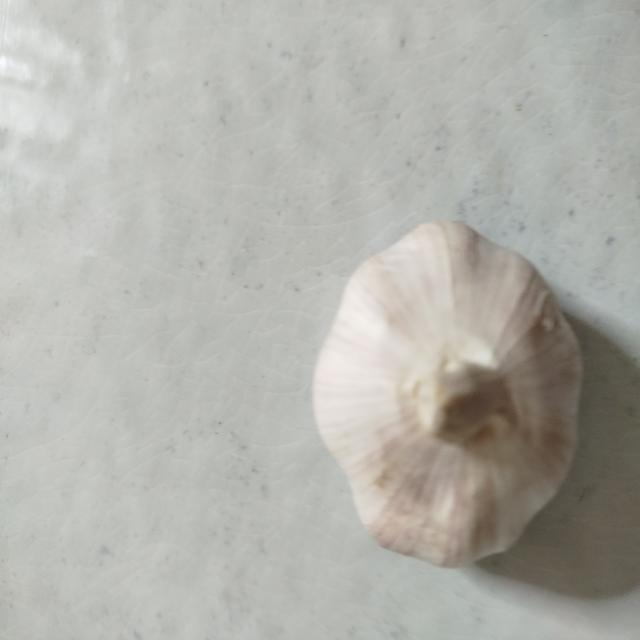garlic: (312, 218, 584, 569)
